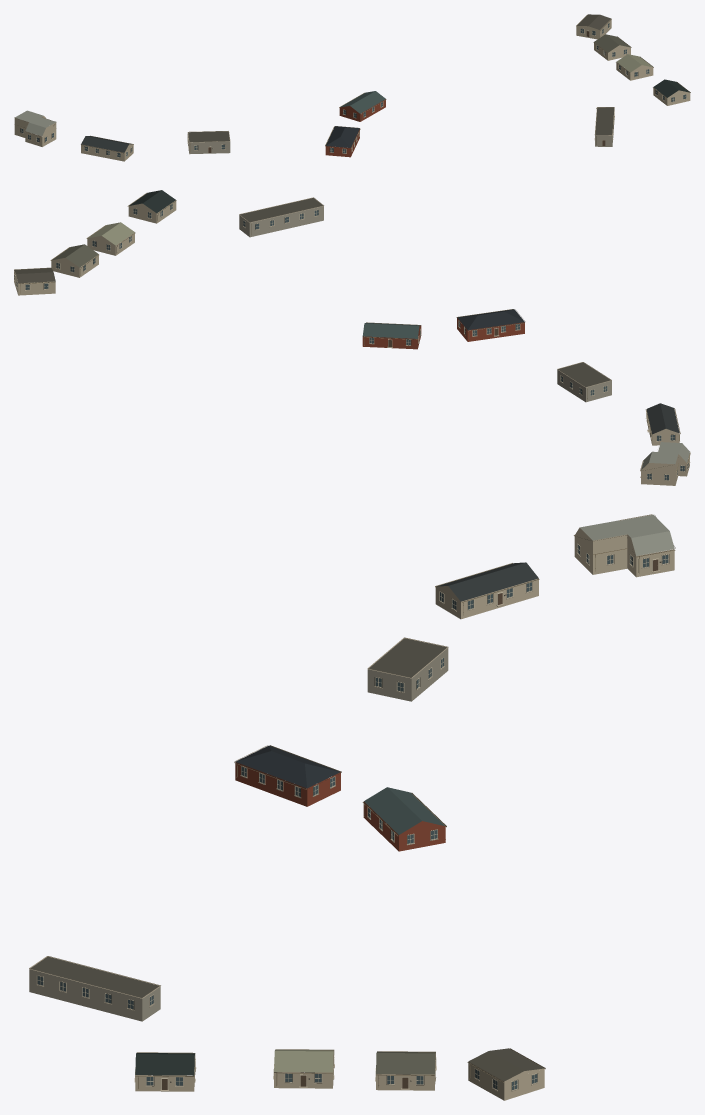
The picture shows the model from 3 angles, top to bottom: view 1: azimuth 30°, elevation 25°; view 2: azimuth 150°, elevation 25°; view 3: azimuth 270°, elevation 25°; orthographic projection. The views are drawn at different scales.
Visible parts, largest first — view 1: 6_1_633774989_42, 6_1_633778039_78, 6_1_-9028881295_115; view 2: 6_1_633774989_42, 6_1_-9028881295_115, 6_1_633778039_78; view 3: 6_1_633774989_42, 6_1_-9028881295_115, 6_1_633778039_78.
Part boxes in pixels (x1,y1,x2,y2): 6_1_633774989_42: (14, 14, 690, 161); 6_1_633778039_78: (325, 99, 385, 157); 6_1_-9028881295_115: (188, 116, 614, 154); 6_1_633774989_42: (14, 190, 690, 485); 6_1_-9028881295_115: (239, 206, 611, 402); 6_1_633778039_78: (362, 317, 524, 349); 6_1_633774989_42: (29, 514, 675, 1100); 6_1_-9028881295_115: (29, 648, 448, 1021); 6_1_633778039_78: (235, 762, 445, 851).
Size of the model in its own units: 229 by 8.98 by 114.
